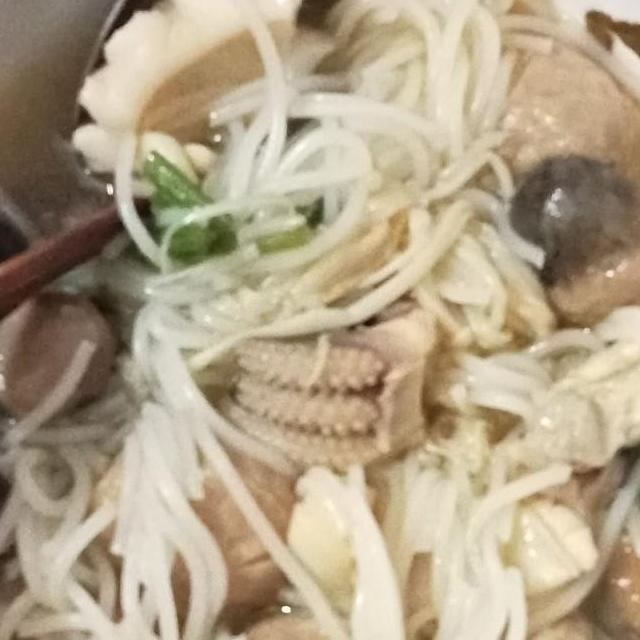bun: (148, 50, 557, 352), (0, 314, 240, 640), (290, 420, 577, 640), (317, 0, 562, 213)
muc: (65, 0, 350, 207), (214, 293, 450, 478)
